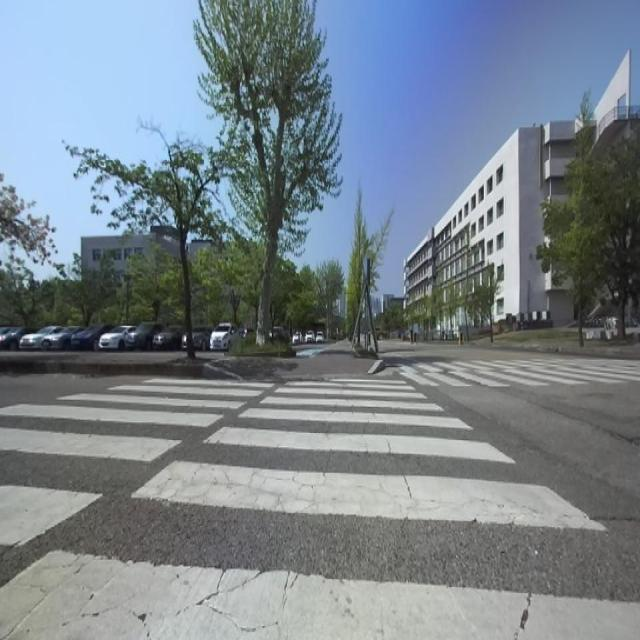sidewalk: (196, 338, 383, 379), (0, 351, 187, 362)
